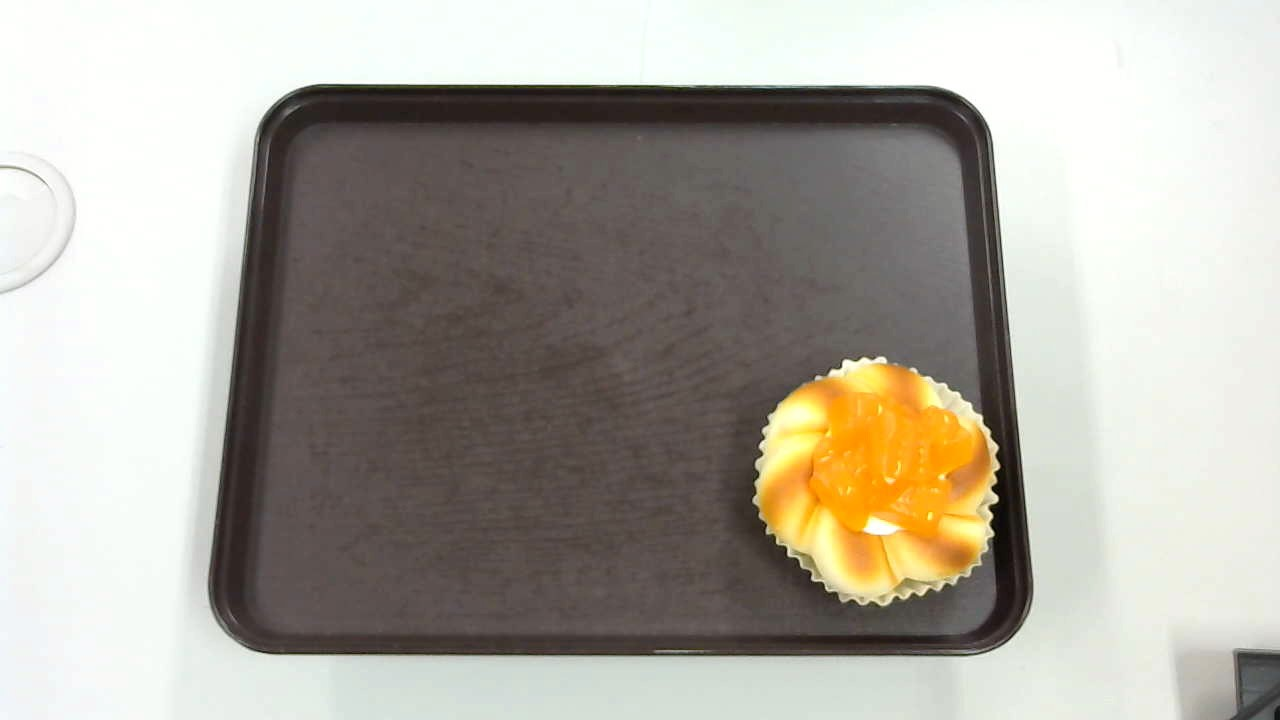mango tart: (752, 355, 1000, 610)
